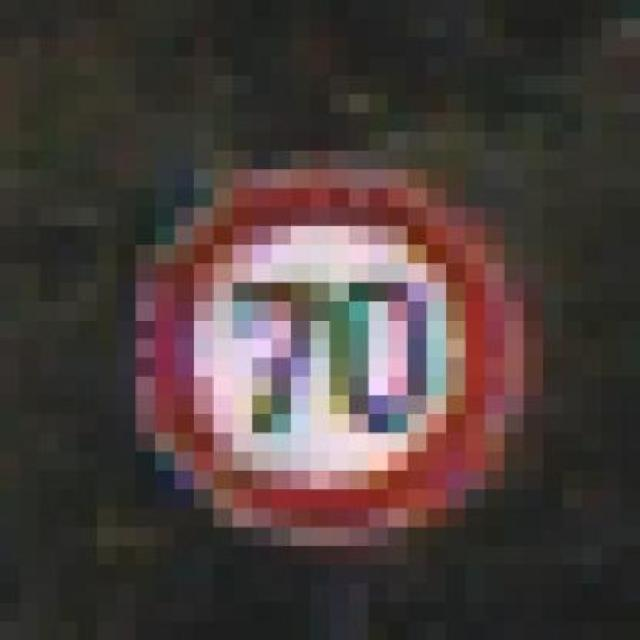forb_speed_over_70: (145, 168, 524, 539)
